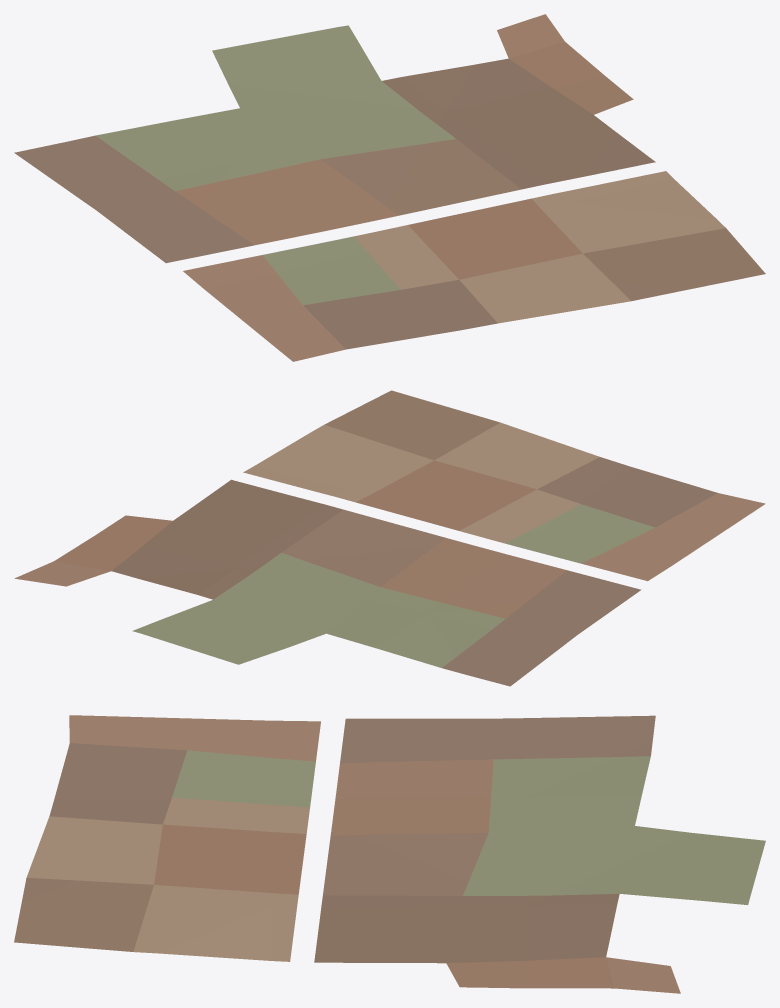
Rendered from farm_26_26_soil.glb.
3 renders of one model, top to bottom at view 1: azimuth 30°, elevation 25°; view 2: azimuth 150°, elevation 25°; view 3: azimuth 270°, elevation 25°, orthographic. The views are drawn at different scales.
Parts seen in each view (by area): view 1: geometry_0; view 2: geometry_0; view 3: geometry_0.
Boxes of the visible parts, left/top/right/bottom form: geometry_0: left=14, top=14, right=765, bottom=361; geometry_0: left=14, top=390, right=765, bottom=686; geometry_0: left=14, top=715, right=765, bottom=993.
Size of the model in its own units: 206 by 2.95 by 236.
